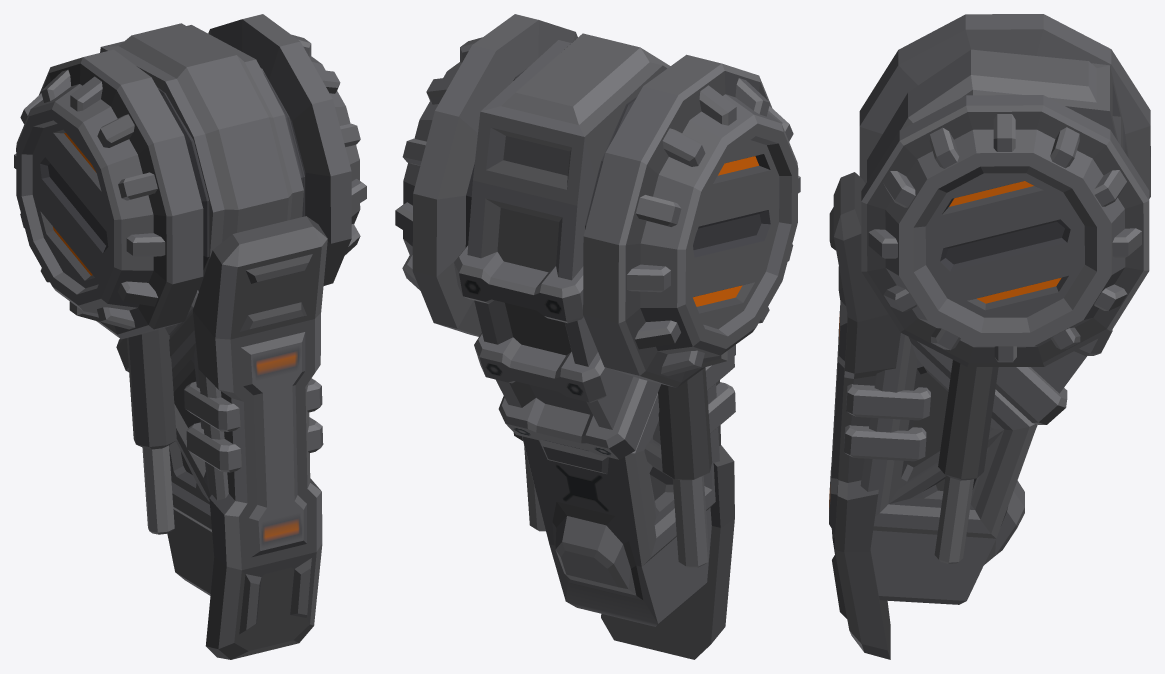
File: SM_Mech_Thigh_01_Frame_01.fbx
The picture shows the model from 3 angles, left to right: view 1: azimuth 30°, elevation 25°; view 2: azimuth 150°, elevation 25°; view 3: azimuth 270°, elevation 25°; orthographic projection. The views are drawn at different scales.
Parts seen in each view (by area): view 1: SM_Mech_Thigh_01_Frame_01; view 2: SM_Mech_Thigh_01_Frame_01; view 3: SM_Mech_Thigh_01_Frame_01.
Part boxes in pixels (x1,y1,x2,y2): SM_Mech_Thigh_01_Frame_01: (14,14,366,659); SM_Mech_Thigh_01_Frame_01: (395,14,800,659); SM_Mech_Thigh_01_Frame_01: (829,14,1150,659).
Bounding box in the file's own units: 57.55 × 126 × 63.49.
